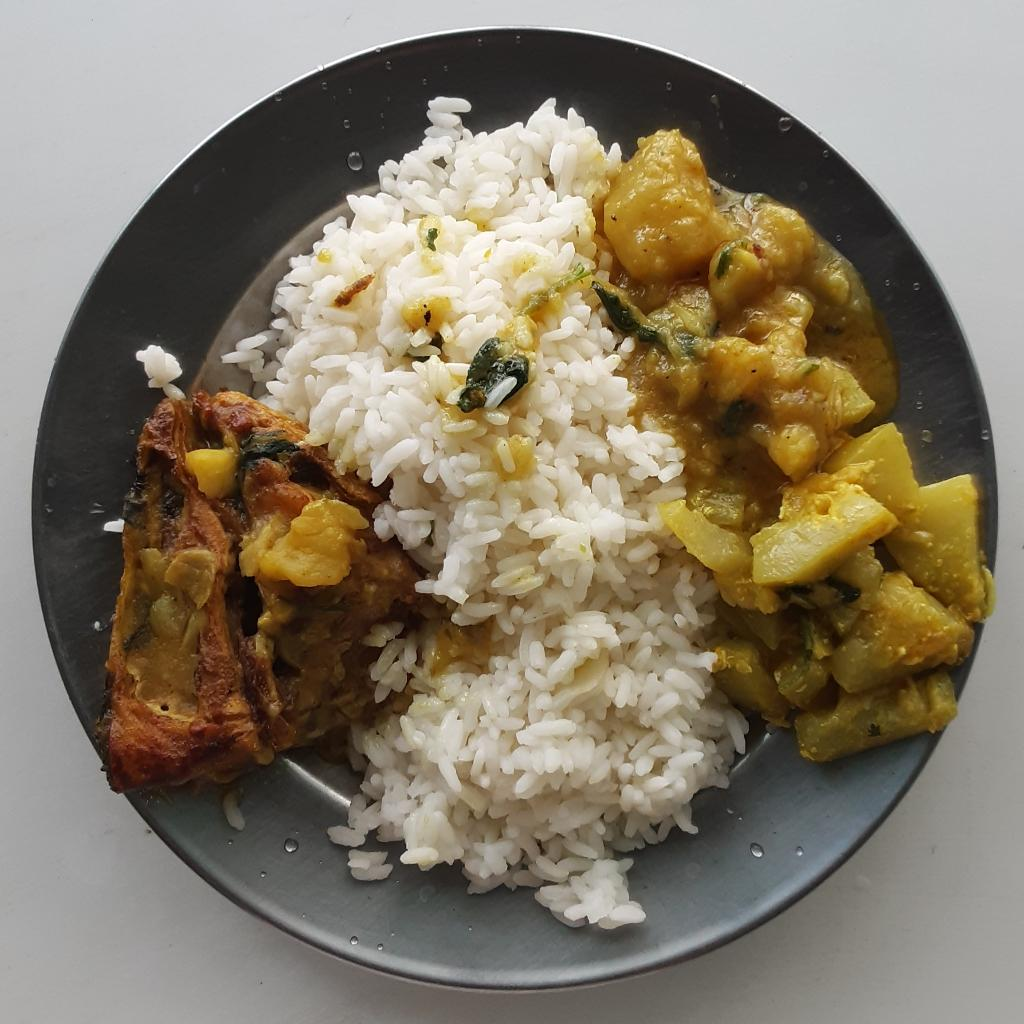fish: (91, 393, 416, 795)
lau: (673, 418, 998, 763), (596, 125, 899, 475)
potato: (597, 126, 900, 476)
rice: (215, 96, 750, 928)
